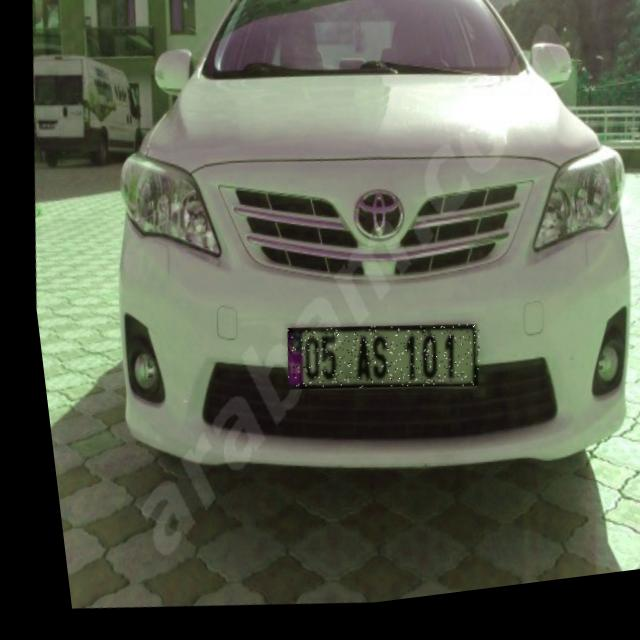license_plate: (272, 315, 475, 415)
